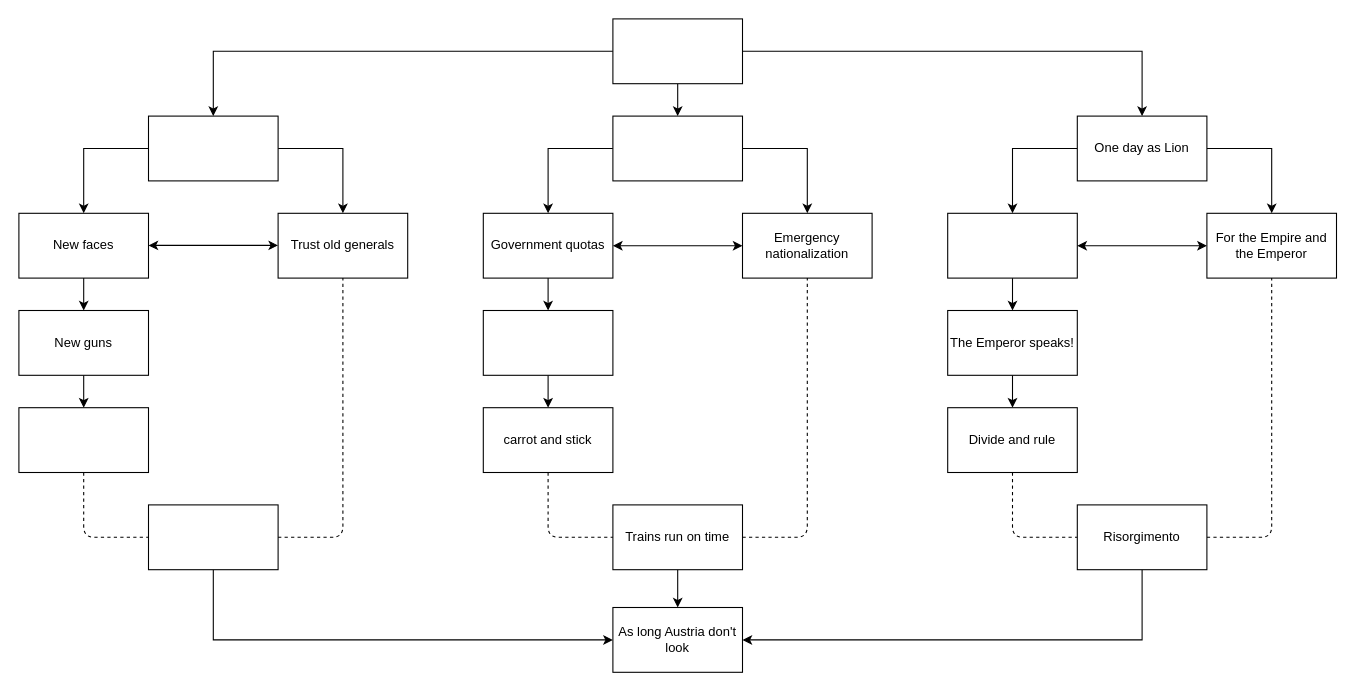
The diagram is 1355 pixels wide and 691 high, and some of its shapes have lost their labels. The shapes that lost their labels are listed below. From the top down, each one's centre as x and y in pixels, then its label:
(x=677, y=51): Empire Legacy
(x=212, y=148): Army revision
(x=677, y=148): Labor front
(x=1012, y=245): For Italy and Italians
(x=547, y=342): Solidarity for a while
(x=83, y=440): New tactics
(x=212, y=537): Grande esercito
